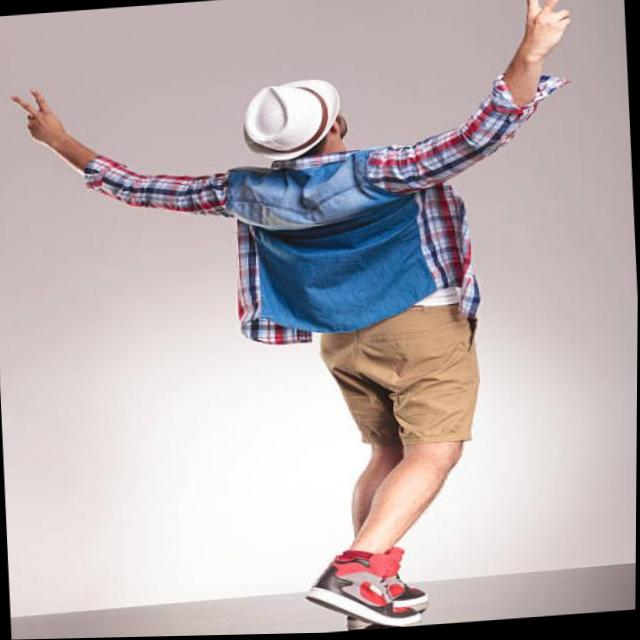no helmet: (202, 61, 395, 185)
